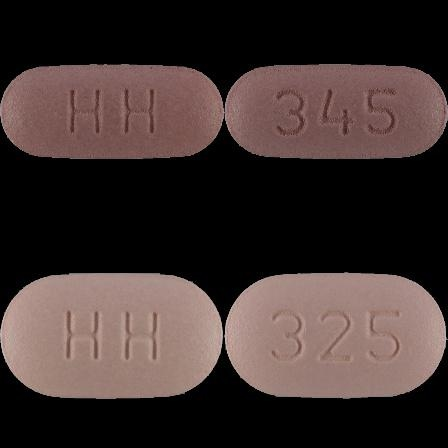43547-311: (0, 0, 224, 224)
